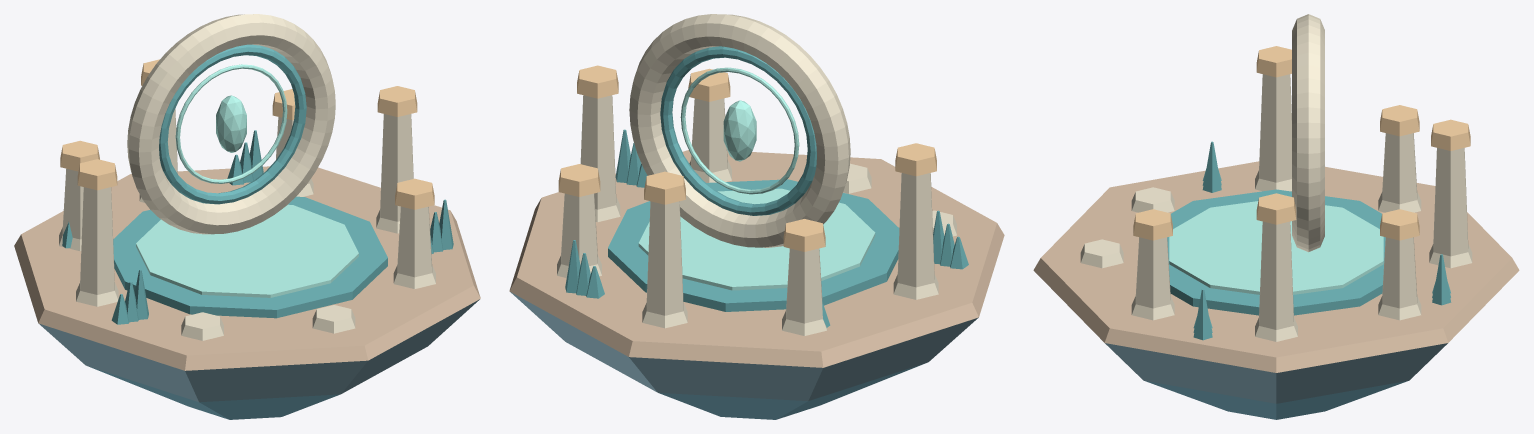
File: 04_santuario_das_mares.glb
3 renders of one model, left to right at view 1: azimuth 30°, elevation 25°; view 2: azimuth 150°, elevation 25°; view 3: azimuth 270°, elevation 25°, orthographic. The views are drawn at different scales.
Parts seen in each view (by area): view 1: terrace_002, portal_outer_025, pool_water_004, island_000, pool_003, portal_inner_026, pillar_018, pillar_006, island_root_001, pillar_023, energy_ring_027, heart_028 (+12 smaller); view 2: terrace_002, portal_outer_025, island_000, pool_003, pool_water_004, portal_inner_026, pillar_012, pillar_018, pillar_006, island_root_001, pillar_015, pillar_023 (+16 smaller); view 3: terrace_002, pool_water_004, island_000, portal_outer_025, pool_003, pillar_012, pillar_006, pillar_018, island_root_001, pillar_009, pillar_023, pillar_015 (+16 smaller).
Boxes of the visible parts, bbox=[...] form: terrace_002: bbox=[14, 166, 480, 370]; portal_outer_025: bbox=[127, 14, 335, 234]; pool_water_004: bbox=[136, 204, 358, 297]; island_000: bbox=[38, 299, 479, 402]; pool_003: bbox=[113, 196, 387, 318]; portal_inner_026: bbox=[159, 44, 306, 204]; pillar_018: bbox=[80, 187, 114, 294]; pillar_006: bbox=[380, 114, 413, 221]; island_root_001: bbox=[89, 366, 340, 419]; pillar_023: bbox=[397, 206, 432, 277]; energy_ring_027: bbox=[175, 64, 287, 183]; heart_028: bbox=[216, 95, 246, 152]; terrace_002: bbox=[509, 150, 1004, 367]; portal_outer_025: bbox=[629, 14, 850, 247]; island_000: bbox=[510, 292, 978, 400]; pool_003: bbox=[608, 179, 899, 311]; pool_water_004: bbox=[638, 188, 875, 290]; portal_inner_026: bbox=[660, 46, 816, 215]; pillar_012: bbox=[646, 201, 683, 315]; pillar_018: bbox=[897, 173, 934, 287]; pillar_006: bbox=[580, 95, 616, 209]; island_root_001: bbox=[659, 363, 925, 419]; pillar_015: bbox=[786, 248, 822, 323]; pillar_023: bbox=[691, 98, 727, 172]; terrace_002: bbox=[1033, 161, 1519, 372]; pool_water_004: bbox=[1169, 201, 1383, 294]; island_000: bbox=[1105, 343, 1447, 403]; portal_outer_025: bbox=[1292, 14, 1324, 252]; pool_003: bbox=[1167, 189, 1385, 315]; pillar_012: bbox=[1433, 148, 1468, 256]; pillar_006: bbox=[1259, 221, 1293, 329]; pillar_018: bbox=[1259, 74, 1291, 182]; island_root_001: bbox=[1144, 380, 1408, 419]; pillar_009: bbox=[1382, 237, 1417, 308]; pillar_023: bbox=[1135, 237, 1170, 308]; pillar_015: bbox=[1382, 133, 1417, 204].
Bounding box in the file's own units: 5.3 × 4.4 × 5.3.
